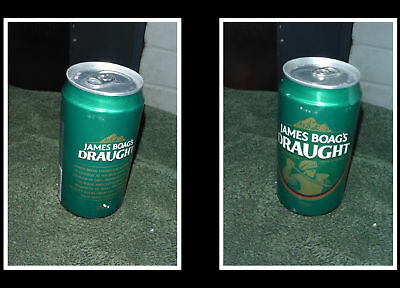beer can: (276, 52, 364, 220), (58, 60, 146, 219)
